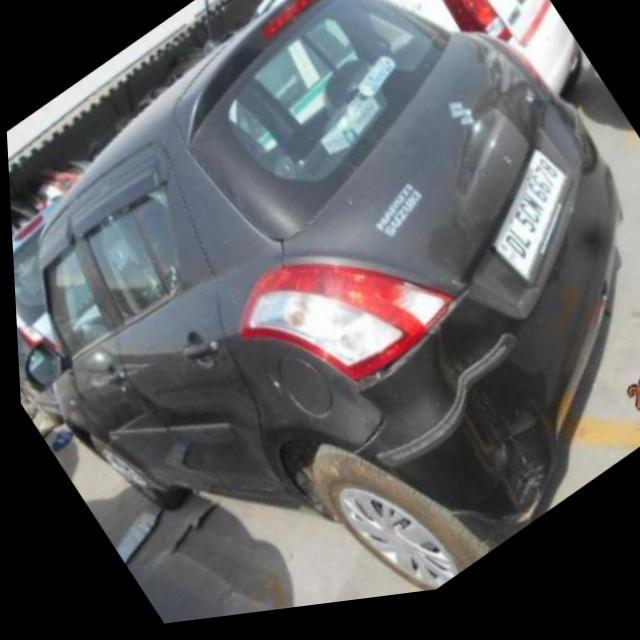dent: (423, 315, 563, 539)
dislocated part: (349, 299, 471, 404), (350, 397, 391, 465)
